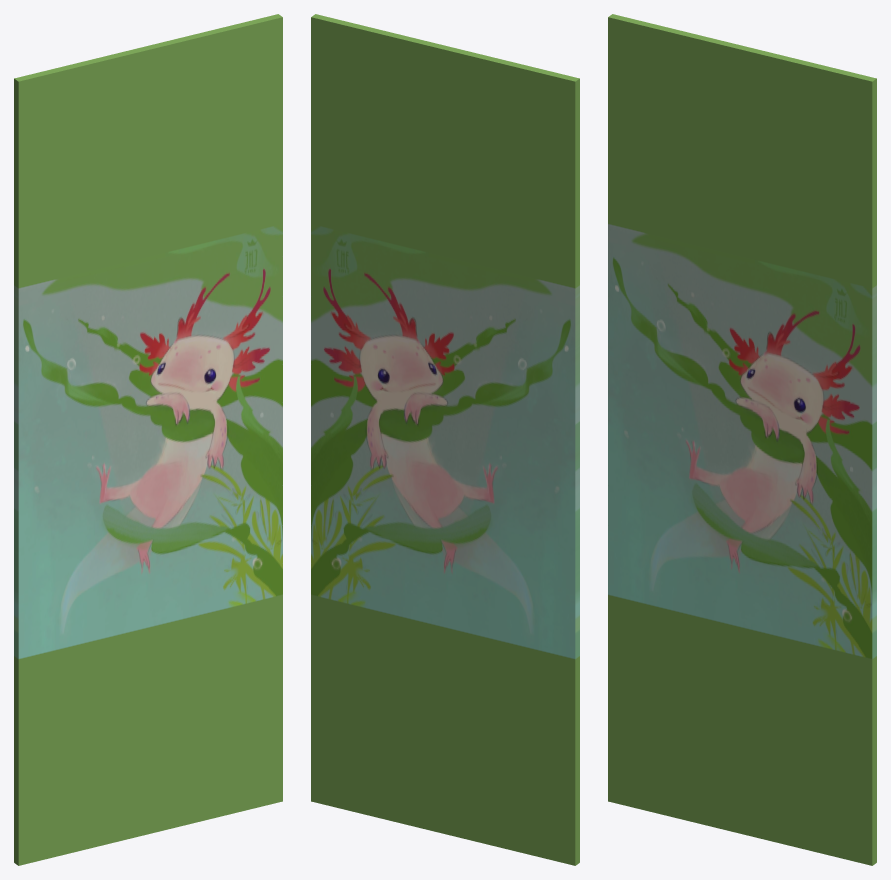
Rendered from bandera5.obj.
3 views of the same model, side by side, from view 1: azimuth 30°, elevation 25°; view 2: azimuth 150°, elevation 25°; view 3: azimuth 330°, elevation 25° (orthographic).
Visible parts, largest first — view 1: polySurface2183 pCylinder44; view 2: polySurface2183 pCylinder44; view 3: polySurface2183 pCylinder44.
Part boxes in pixels (bbox=[...]): polySurface2183 pCylinder44: bbox=[14, 14, 282, 865]; polySurface2183 pCylinder44: bbox=[311, 14, 579, 865]; polySurface2183 pCylinder44: bbox=[608, 14, 876, 865].
Bounding box in the file's own units: 3.64 × 10.32 × 0.1043.
Materials: 1 (1 with a texture image).
